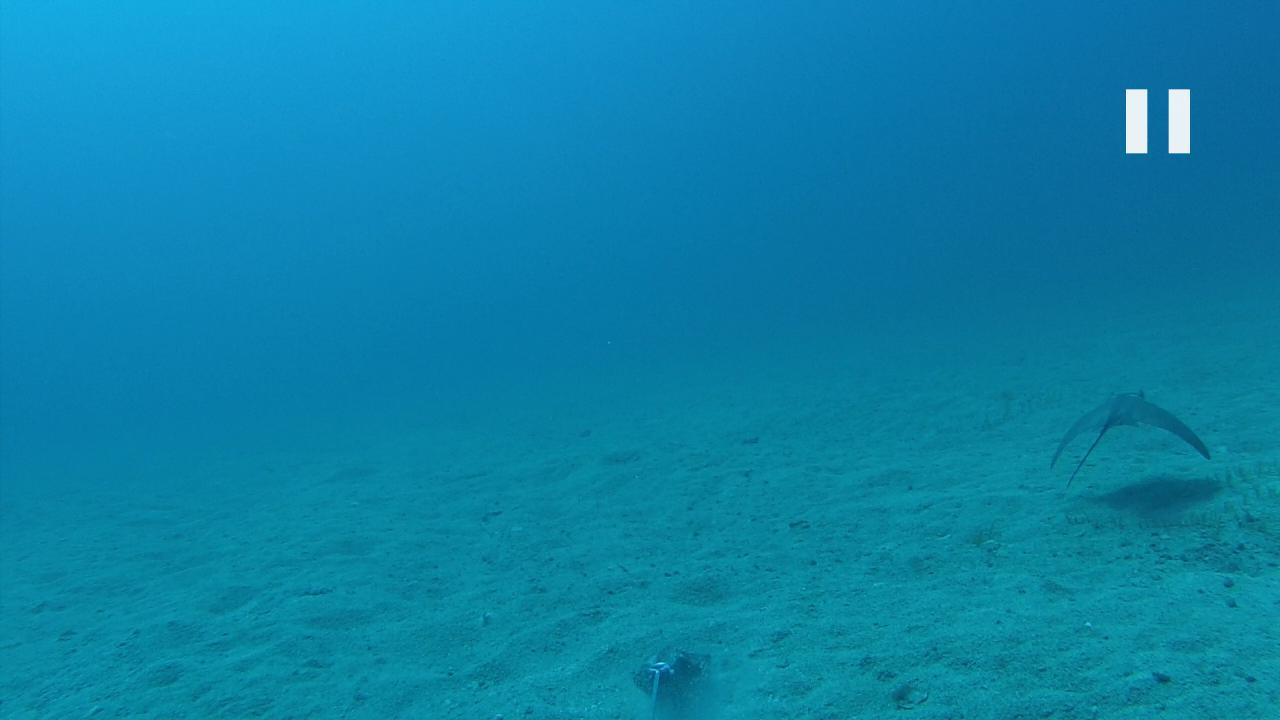dasyatis: (1050, 389, 1214, 492)
